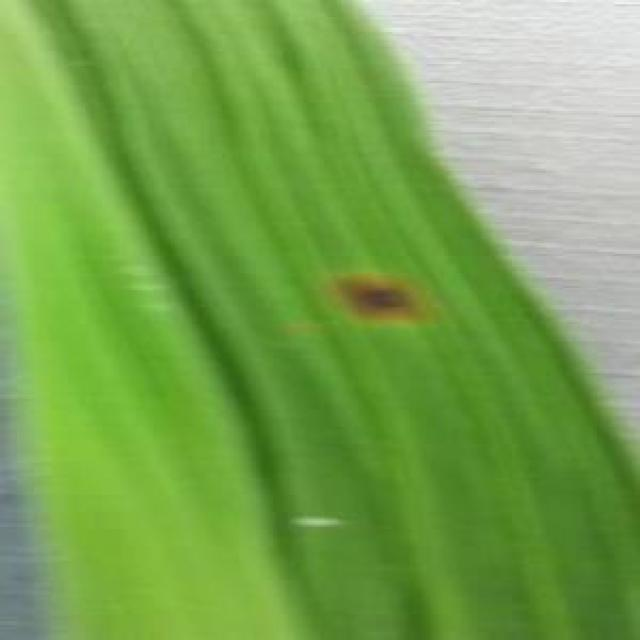Brown_Spot: (323, 262, 435, 338)
